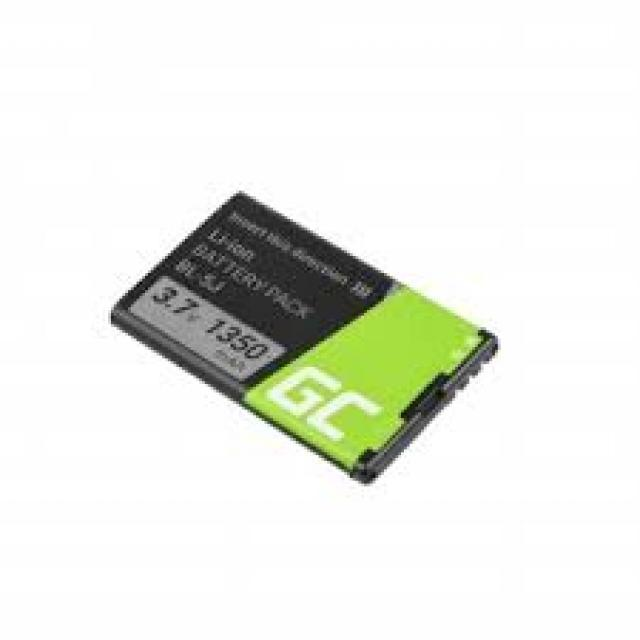battery: (102, 187, 502, 483)
